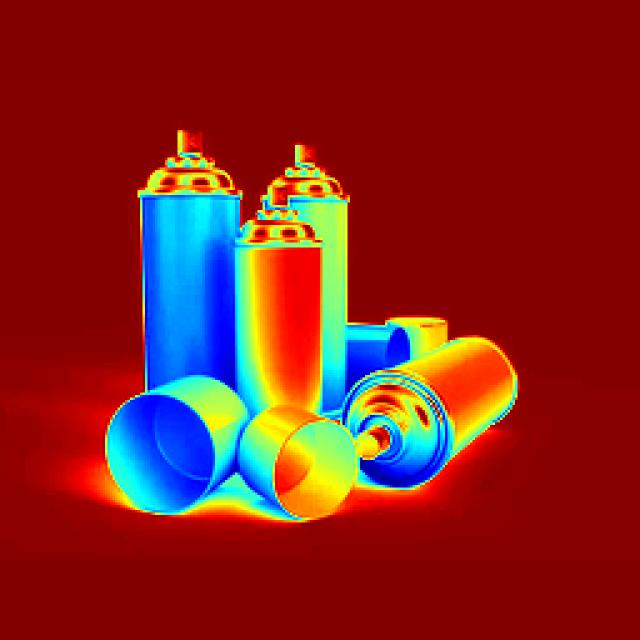Aerosol Cans: (140, 121, 236, 413), (243, 179, 332, 431), (296, 128, 376, 397)
